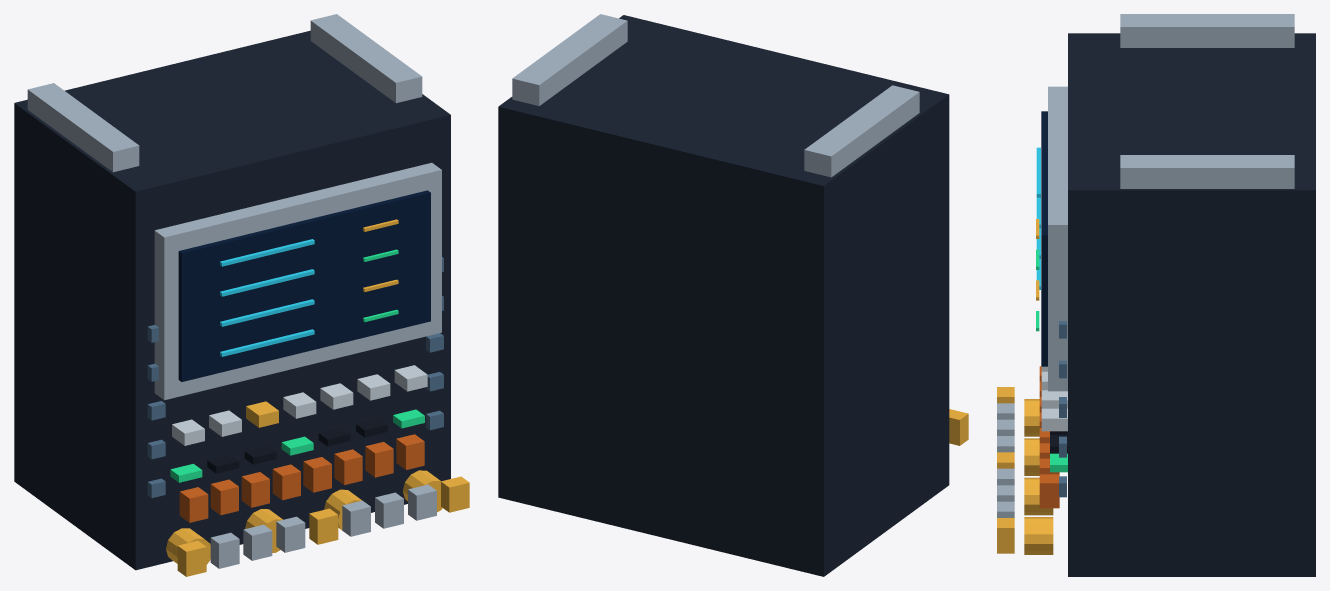
The model's file is 72_L85_DockingPowerDistributionCabinet.fbx.
The picture shows the model from 3 angles, left to right: view 1: azimuth 30°, elevation 25°; view 2: azimuth 150°, elevation 25°; view 3: azimuth 270°, elevation 25°; orthographic projection. The views are drawn at different scales.
Parts seen in each view (by area): view 1: L85_DockingPowerDistributionCabinet; view 2: L85_DockingPowerDistributionCabinet; view 3: L85_DockingPowerDistributionCabinet.
Boxes of the visible parts, <box> form: L85_DockingPowerDistributionCabinet: <box>14,14,469,576</box>; L85_DockingPowerDistributionCabinet: <box>498,14,968,576</box>; L85_DockingPowerDistributionCabinet: <box>997,14,1315,576</box>.
Size of the model in its own units: 95.88 by 116 by 82.21.
